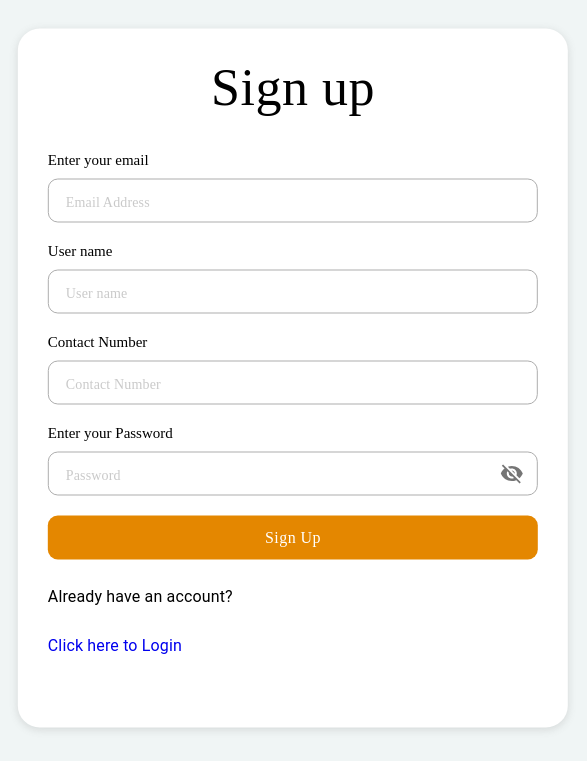
Scenario: Register › should display error message for invalid username length
Type "abc" into the field with test id "username-input".
click(293, 292); type("abc")  # box [48,270,538,314]
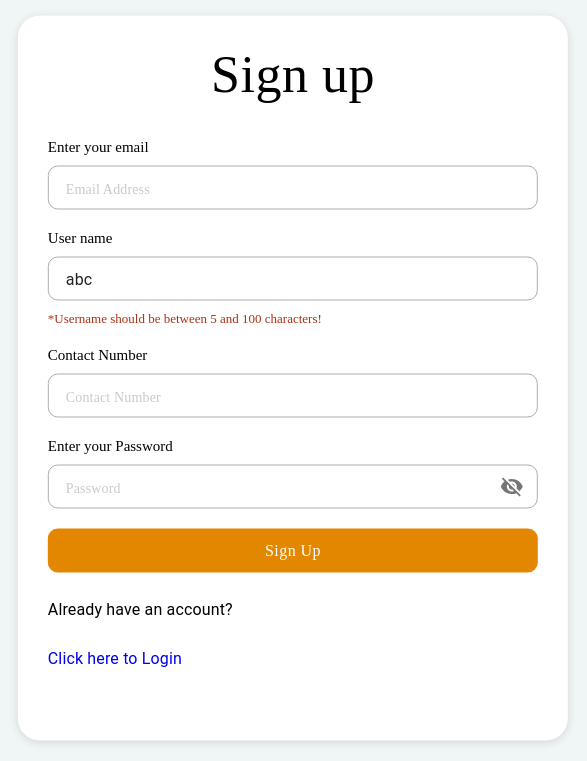
Check: the text with test id "username-error" reads "*Username should be between 5 and 100 characters!", box [48,310,322,326]
